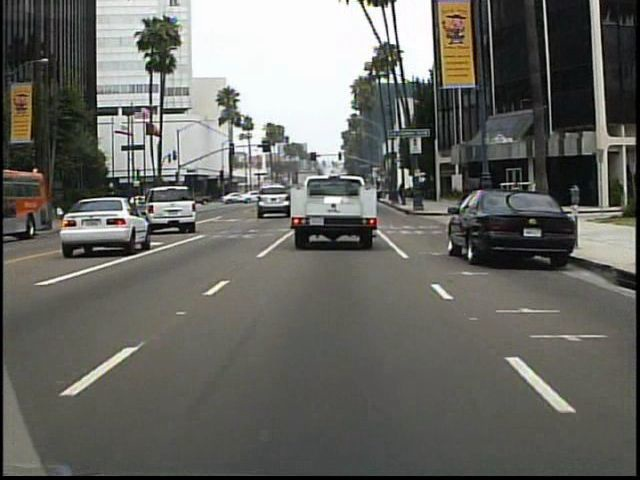person: (533, 176, 549, 212)
